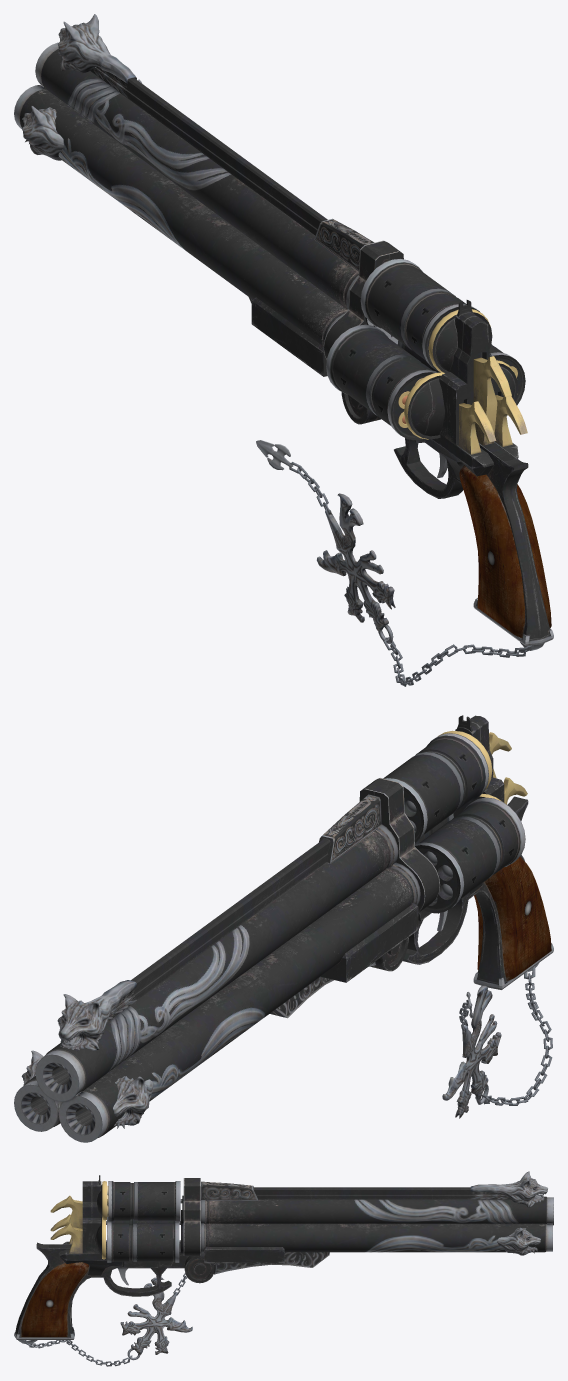
Rendered from Cerberus.obj.
The picture shows the model from 3 angles, top to bottom: view 1: azimuth 30°, elevation 25°; view 2: azimuth 150°, elevation 25°; view 3: azimuth 270°, elevation 25°; orthographic projection. The views are drawn at different scales.
Parts seen in each view (by area): view 1: Cerberus00_Fixed; view 2: Cerberus00_Fixed; view 3: Cerberus00_Fixed.
Part boxes in pixels (<box>): Cerberus00_Fixed: <box>14,14,553,686</box>; Cerberus00_Fixed: <box>14,715,553,1142</box>; Cerberus00_Fixed: <box>14,1171,553,1366</box>.
Size of the model in its own units: 0.3251 by 0.6599 by 1.56.
1 material, 1 textured.
